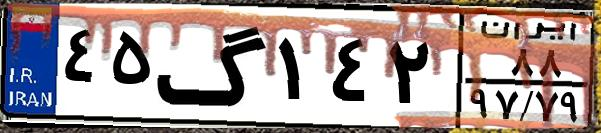1: (270, 28, 330, 110)
2: (385, 28, 445, 110)
4: (330, 28, 385, 110), (57, 26, 110, 100)
5: (110, 28, 156, 98)
7: (495, 70, 520, 125), (535, 70, 560, 125)
8: (537, 27, 568, 80), (508, 27, 537, 80)
9: (560, 70, 590, 125), (470, 70, 495, 125)
گ: (156, 12, 270, 120)
